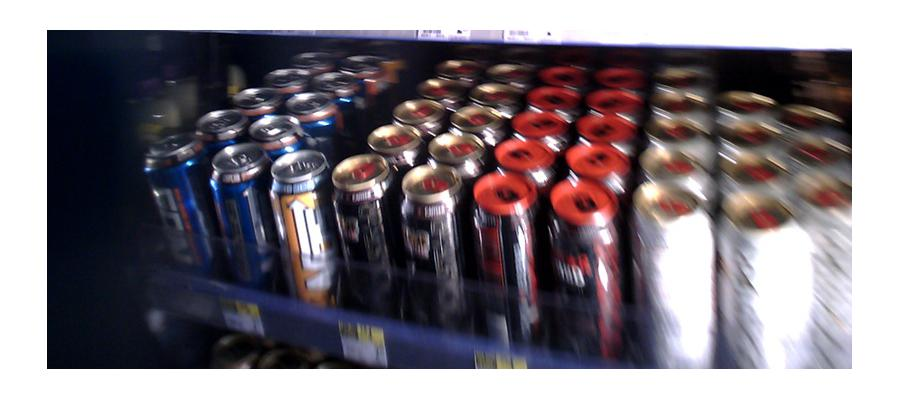bottle: (714, 115, 817, 365), (631, 107, 724, 380), (549, 169, 622, 360), (475, 166, 543, 349), (399, 169, 466, 327), (271, 155, 335, 308), (142, 140, 212, 278), (335, 158, 395, 315), (214, 146, 271, 290)
